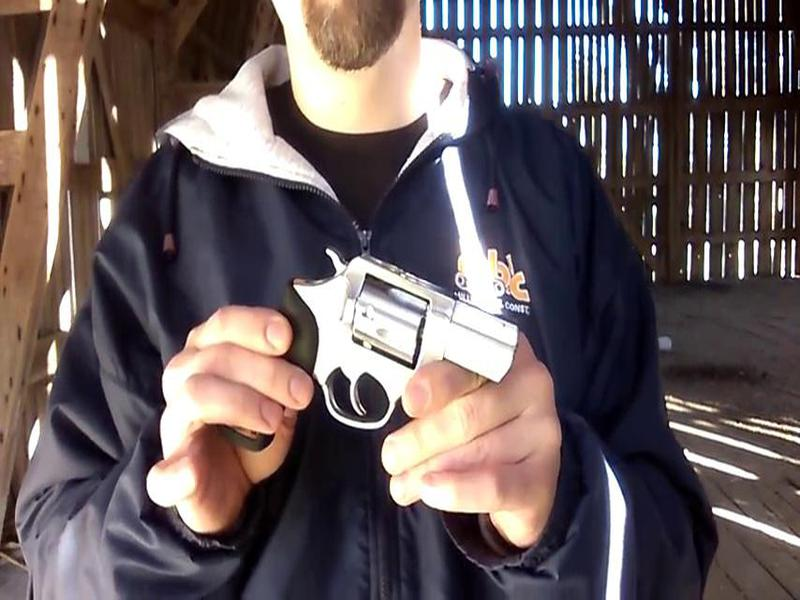Revolver: (197, 214, 550, 484)
